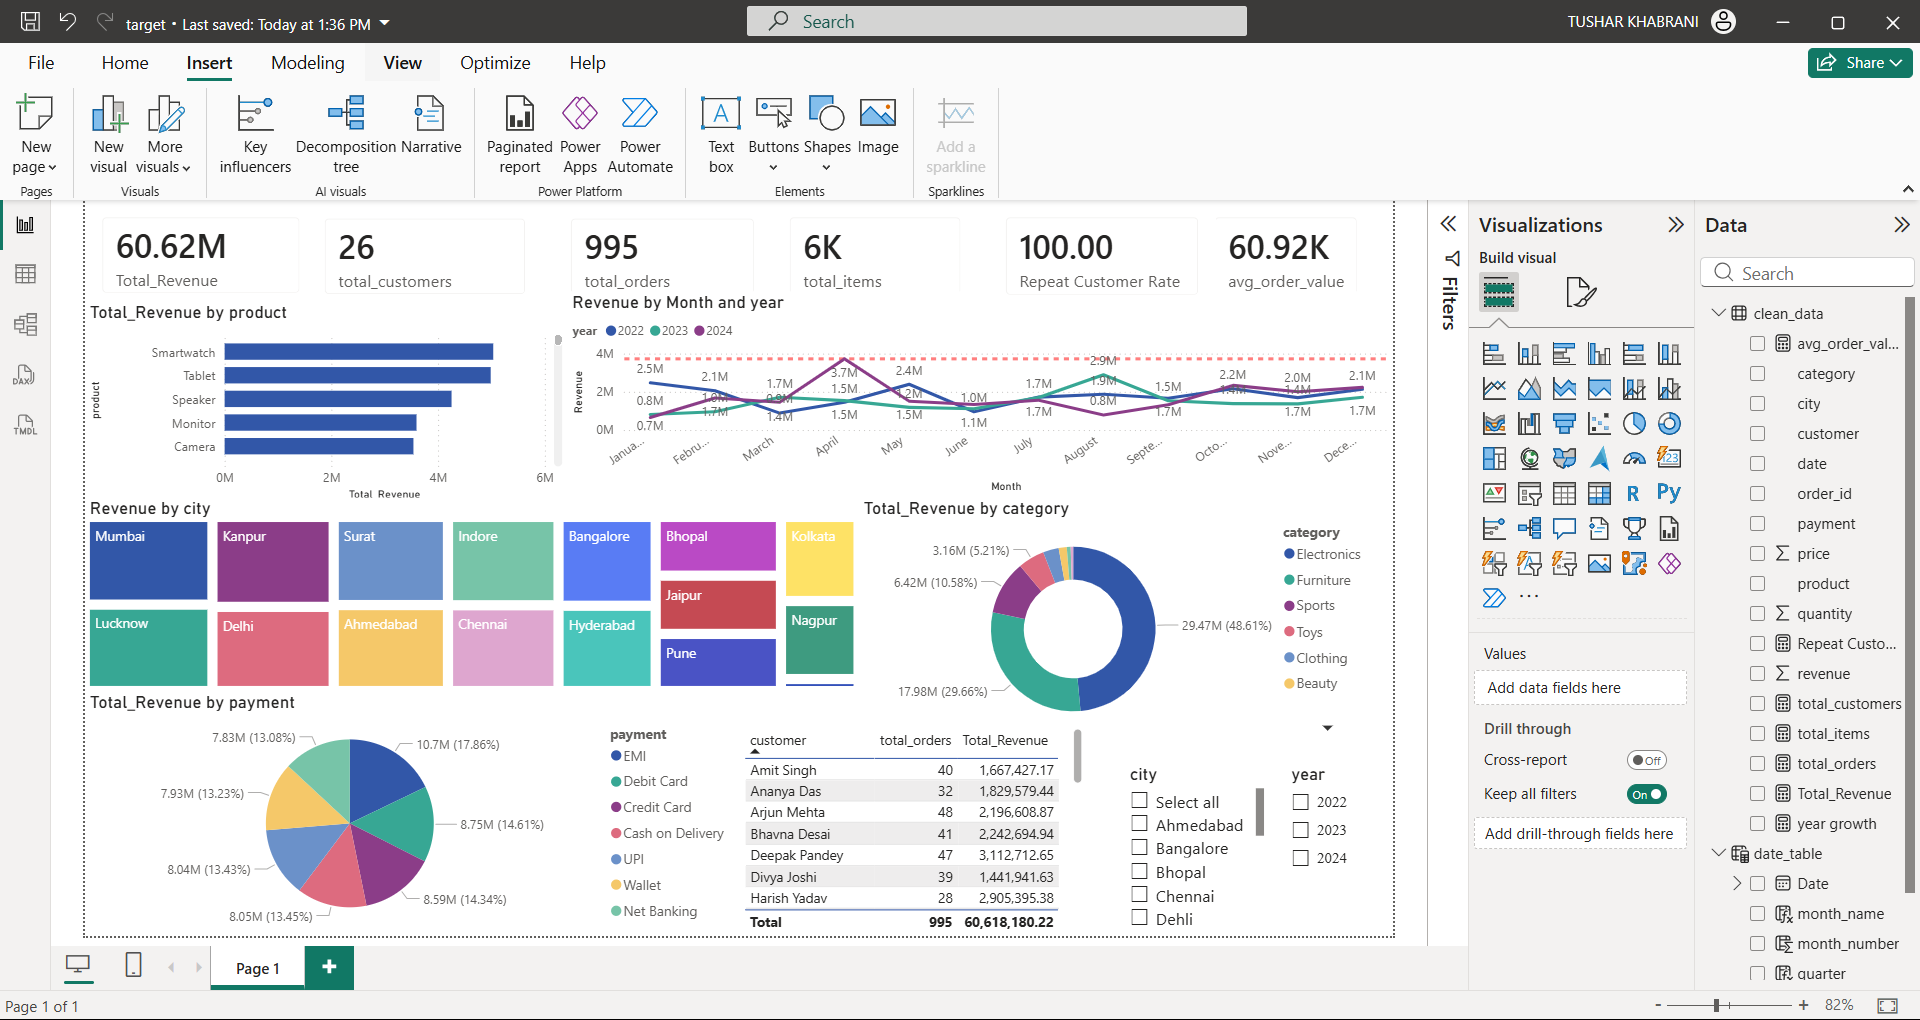

This screenshot's page, from the dashboard's own definition file:
{"tool":"powerbi","page":{"name":"Page 1","canvas":[1280,720],"ordinal":0},"visuals":[{"type":"cardVisual","fields":{"Data":["clean_data.avg_order_value"]},"box":[1088.5,0,173.8,110],"z":0},{"type":"cardVisual","fields":{"Data":["clean_data.total_customers"]},"box":[217.5,1.2,230,108.8],"z":1000},{"type":"cardVisual","fields":{"Data":["clean_data.total_orders"]},"box":[458.8,1.2,213.8,108.8],"z":2000},{"type":"cardVisual","fields":{"Data":["clean_data.Total_Revenue"]},"box":[0,0,227.5,108.8],"z":3000},{"type":"cardVisual","fields":{"Data":["clean_data.total_items"]},"box":[672.3,0,201.5,110],"z":4000},{"type":"clusteredBarChart","fields":{"Category":["clean_data.product"],"Y":["clean_data.Total_Revenue"]},"box":[0,99,472,200.5],"z":5000},{"type":"lineChart","fields":{"Series":["date_table.year"],"Y":["date_table.Revenue"],"Category":["date_table.Date.Variation.Date Hierarchy.Month"]},"box":[472,89.3,808.3,201.8],"z":6000},{"type":"donutChart","fields":{"Category":["clean_data.category"],"Y":["clean_data.Total_Revenue"]},"box":[756.9,291,505,238.5],"z":7000},{"type":"pieChart","fields":{"Category":["clean_data.payment"],"Y":["clean_data.Total_Revenue"]},"box":[0,480.6,639.5,239.7],"z":8000},{"type":"tableEx","fields":{"Values":["clean_data.customer","clean_data.total_orders","clean_data.Total_Revenue"]},"box":[639.5,512.4,341.2,207.9],"z":9000},{"type":"listSlicer","fields":{"Values":["date_table.year"]},"box":[1143.3,529.5,137,190.8],"z":10000},{"type":"cardVisual","fields":{"Data":["clean_data.Repeat Customer Rate"]},"box":[883.8,0,222.3,110],"z":11000},{"type":"treemap","fields":{"Values":["date_table.Revenue"],"Group":["clean_data.city"]},"box":[0,291,756.9,189.5],"z":12000},{"type":"listSlicer","fields":{"Values":["clean_data.city"]},"box":[979.5,512.4,163.9,207.9],"z":13000}]}

Visuals, with their boxes on the page's 1280x720 design canvas (x1, y1, x2, y2). These are canvas units, not pixel positions in the 1920x1020 screenshot, which may show the page scaled, cropped or inside an application window:
cardVisual - clean_data.avg_order_value: [left=1088, top=0, right=1262, bottom=110]
cardVisual - clean_data.total_customers: [left=218, top=1, right=448, bottom=110]
cardVisual - clean_data.total_orders: [left=459, top=1, right=673, bottom=110]
cardVisual - clean_data.Total_Revenue: [left=0, top=0, right=228, bottom=109]
cardVisual - clean_data.total_items: [left=672, top=0, right=874, bottom=110]
clusteredBarChart - clean_data.product x clean_data.Total_Revenue: [left=0, top=99, right=472, bottom=300]
lineChart - date_table.year x date_table.Revenue: [left=472, top=89, right=1280, bottom=291]
donutChart - clean_data.category x clean_data.Total_Revenue: [left=757, top=291, right=1262, bottom=530]
pieChart - clean_data.payment x clean_data.Total_Revenue: [left=0, top=481, right=640, bottom=720]
tableEx - clean_data.customer x clean_data.total_orders: [left=640, top=512, right=981, bottom=720]
listSlicer - date_table.year: [left=1143, top=530, right=1280, bottom=720]
cardVisual - clean_data.Repeat Customer Rate: [left=884, top=0, right=1106, bottom=110]
treemap - date_table.Revenue x clean_data.city: [left=0, top=291, right=757, bottom=480]
listSlicer - clean_data.city: [left=980, top=512, right=1143, bottom=720]
